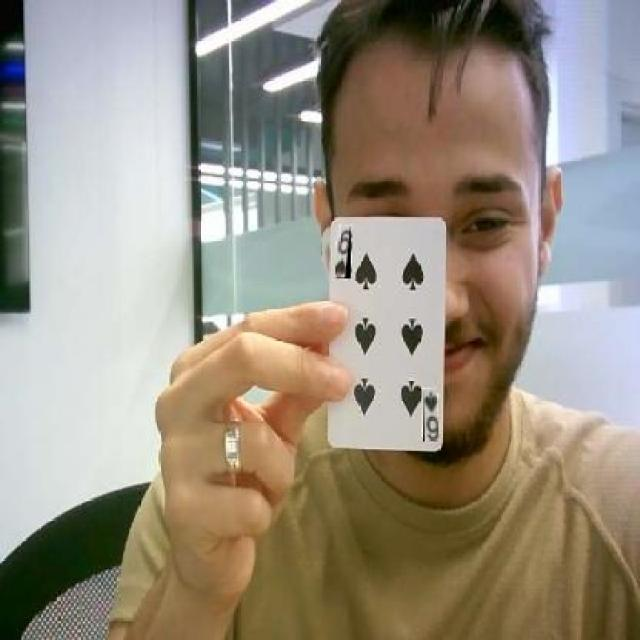6S: (336, 224, 352, 278), (423, 388, 439, 442)
